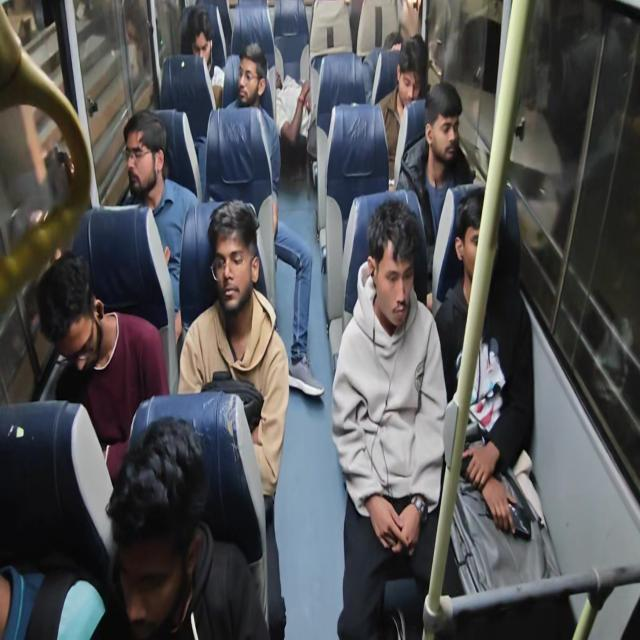person: (331, 198, 449, 638), (177, 198, 289, 636), (433, 188, 549, 594), (105, 415, 270, 639), (222, 42, 324, 397), (36, 250, 170, 484), (120, 108, 200, 340), (395, 80, 475, 279), (225, 41, 311, 148), (374, 34, 428, 180), (180, 5, 224, 109), (225, 42, 270, 116)
